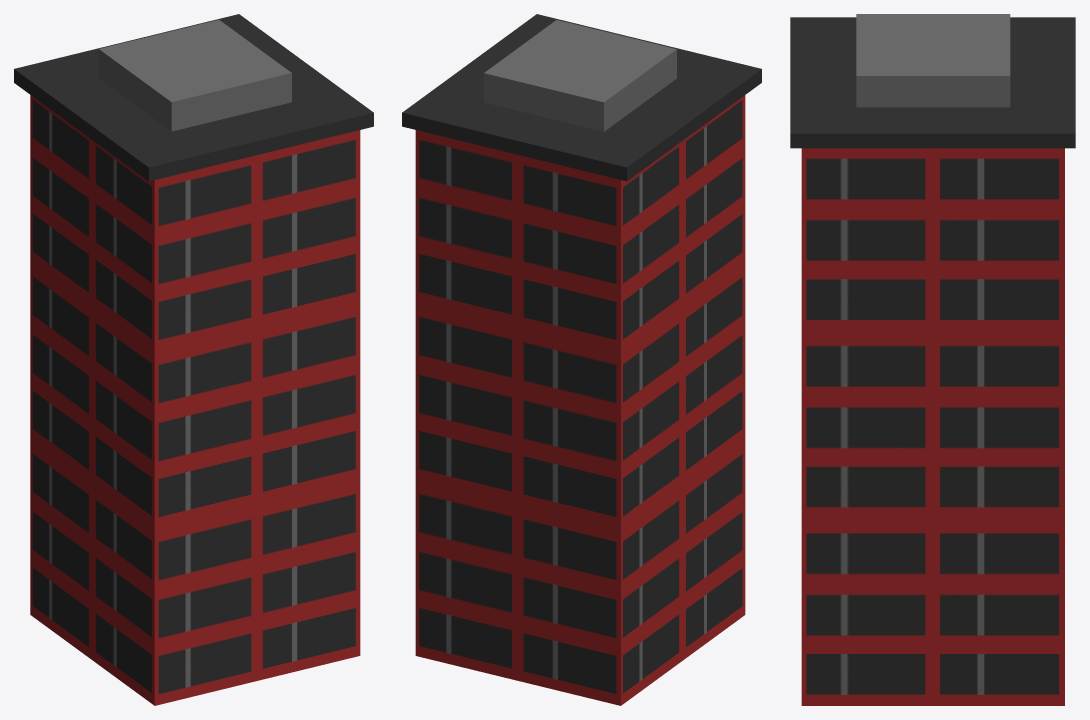
Rendered from Building 05.FBX.
3 views of the same model, side by side, from view 1: azimuth 30°, elevation 25°; view 2: azimuth 150°, elevation 25°; view 3: azimuth 270°, elevation 25° (orthographic). The views are drawn at different scales.
Visible parts, largest first — view 1: Box001; view 2: Box001; view 3: Box001.
Part boxes in pixels (x1,y1,x2,y2): Box001: (14, 14, 373, 705); Box001: (402, 14, 761, 705); Box001: (790, 14, 1075, 705).
Size of the model in its own units: 66.52 by 162 by 69.03.
